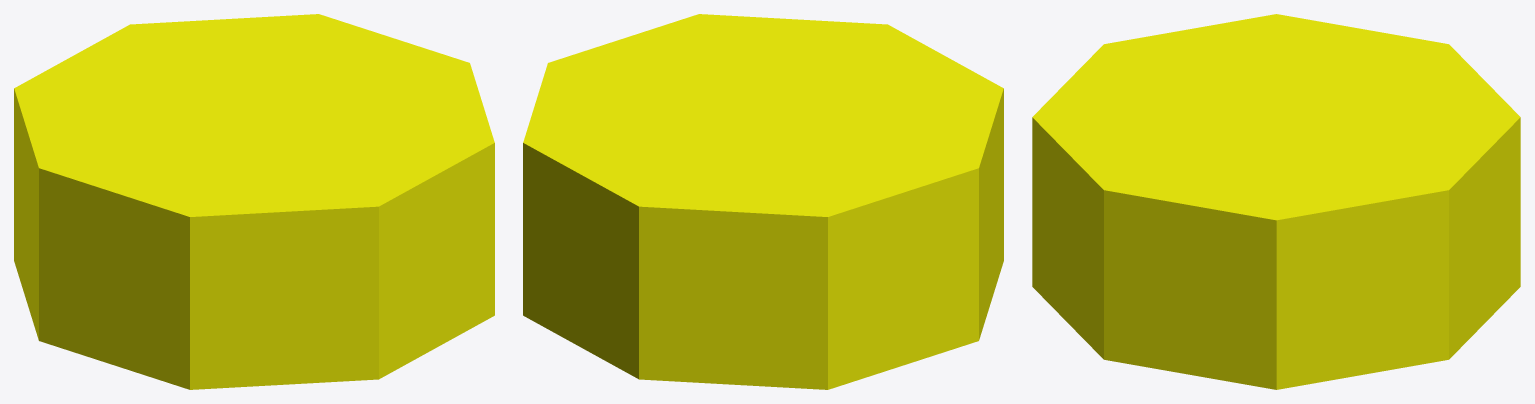
Rendered from bidw_platform_segment7.0x02838.collision.obj.
3 renders of one model, left to right at view 1: azimuth 30°, elevation 25°; view 2: azimuth 150°, elevation 25°; view 3: azimuth 270°, elevation 25°, orthographic.
Parts seen in each view (by area): view 1: bidw_platform_segment7_02838_normal; view 2: bidw_platform_segment7_02838_normal; view 3: bidw_platform_segment7_02838_normal.
Boxes of the visible parts, x1,y1,x2,y2 form: bidw_platform_segment7_02838_normal: (14,14,494,389); bidw_platform_segment7_02838_normal: (523,14,1003,389); bidw_platform_segment7_02838_normal: (1032,14,1520,389).
Size of what is drawn, in the model's own units: 6 by 2.3 by 6.
